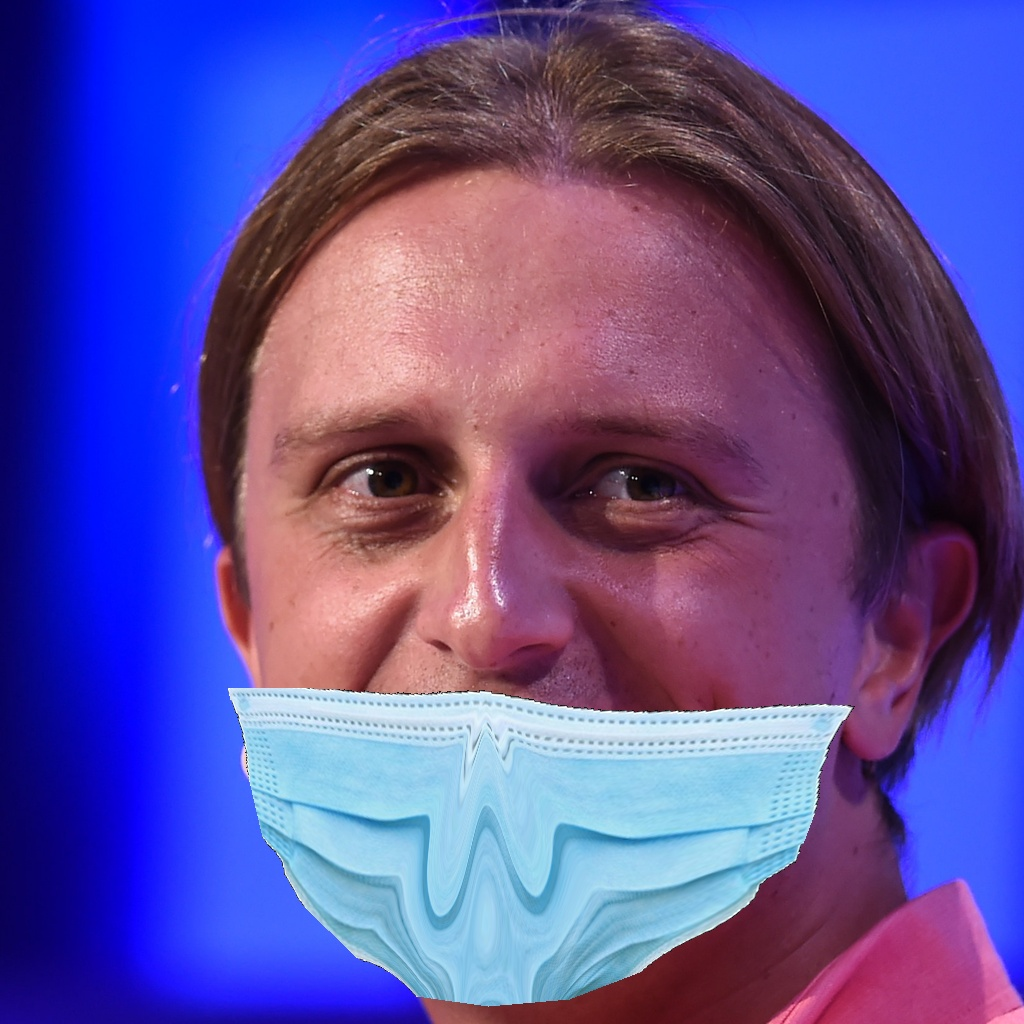mascarilla_mal_puesta: (147, 260, 972, 1013)
